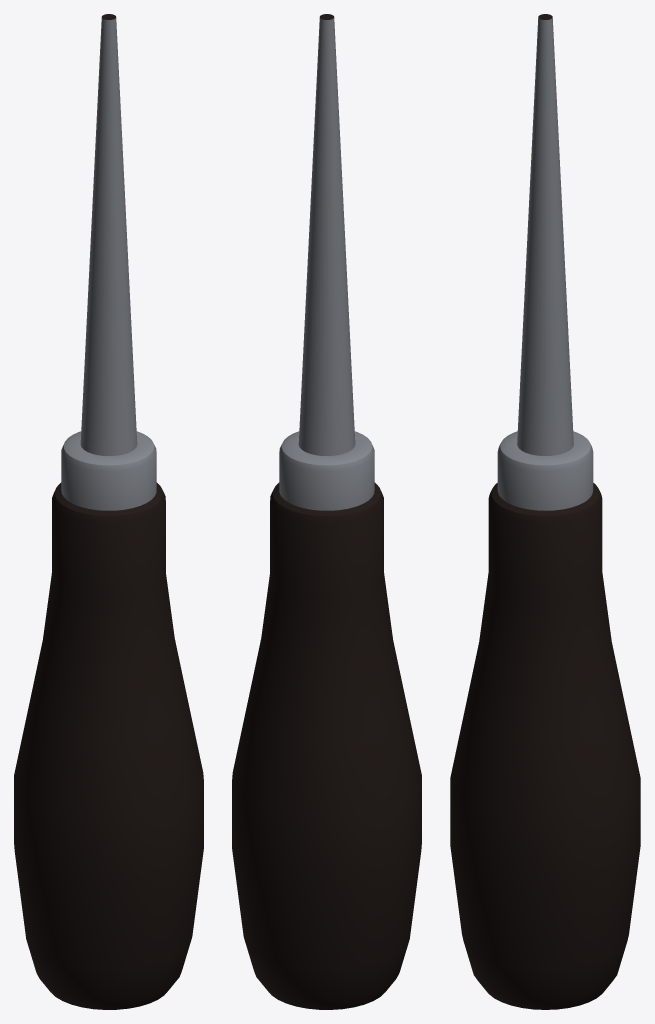
Rendered from F_Tool_02.fbx.
3 renders of one model, left to right at view 1: azimuth 30°, elevation 25°; view 2: azimuth 150°, elevation 25°; view 3: azimuth 270°, elevation 25°, orthographic.
Visible parts, largest first — view 1: F_Tool_02; view 2: F_Tool_02; view 3: F_Tool_02.
Boxes of the visible parts, bbox=[...] form: F_Tool_02: bbox=[14, 14, 203, 1009]; F_Tool_02: bbox=[232, 14, 421, 1009]; F_Tool_02: bbox=[450, 14, 640, 1009].
Size of the model in its own units: 4.73 by 26.67 by 4.73.
Materials: 1 (1 with a texture image).
